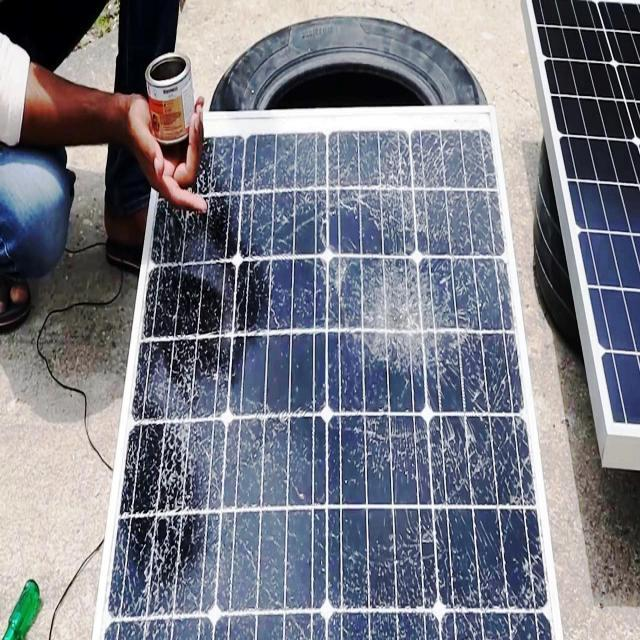faulty: (103, 106, 556, 639)
no faulty: (527, 1, 640, 428)
